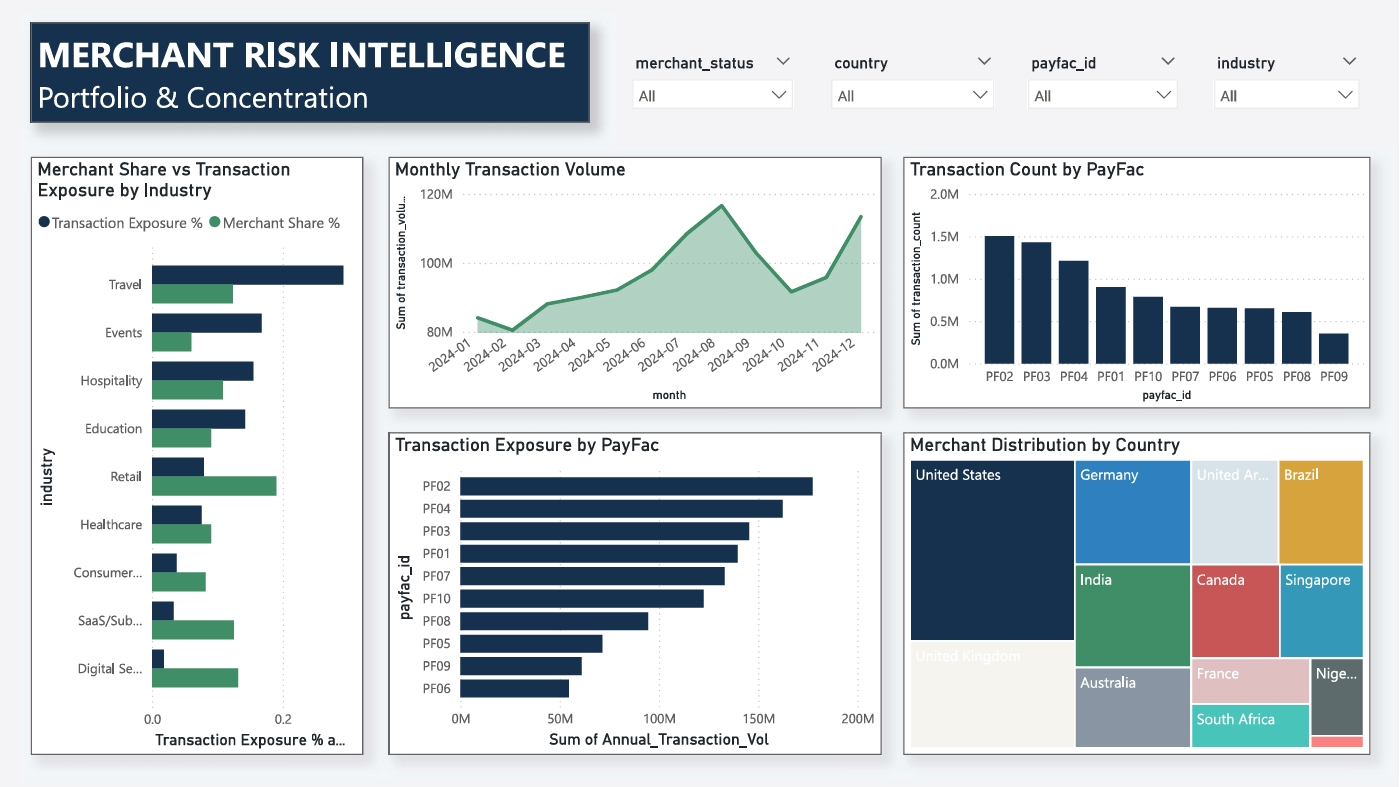

Layout of this report page (visuals, bound fields, positions):
{"tool":"powerbi","page":{"name":"Portfolio & Concentration","canvas":[1280,720],"ordinal":1},"visuals":[{"type":"barChart","title":"Transaction Exposure by PayFac","fields":{"Category":["merchant_risk_intelligence merchants.payfac_id"],"Y":["Sum(merchant_risk_intelligence Annual_monthly_transactions.Annual_Transaction_Vol)"]},"box":[355.8,396.3,451.5,294.5],"z":0},{"type":"clusteredBarChart","title":"Merchant Share vs Transaction Exposure by Industry","fields":{"Category":["merchant_risk_intelligence merchants.industry"],"Y":["merchant_risk_intelligence Annual_monthly_transactions.Transaction Exposure %","merchant_risk_intelligence Annual_monthly_transactions.Merchant Share %"]},"box":[29.4,143.6,303.1,547.2],"z":1000},{"type":"treemap","title":"Merchant Distribution by Country","fields":{"Group":["merchant_risk_intelligence merchants.country"],"Values":["CountNonNull(merchant_risk_intelligence merchants.merchant_id)"]},"box":[827,396.3,427,294.5],"z":2000},{"type":"areaChart","title":"Monthly Transaction Volume","fields":{"Category":["merchant_risk_intelligence monthly_transactions.month"],"Y":["Sum(merchant_risk_intelligence monthly_transactions.transaction_volume)"]},"box":[355.8,143.6,451.5,230.7],"z":3000},{"type":"clusteredColumnChart","title":"Transaction Count by PayFac","fields":{"Category":["merchant_risk_intelligence merchants.payfac_id"],"Y":["Sum(merchant_risk_intelligence monthly_transactions.transaction_count)"]},"box":[827,143.6,427,230.7],"z":4000},{"type":"textbox","box":[29.4,20.9,510.4,92],"z":5000},{"type":"slicer","fields":{"Values":["merchant_risk_intelligence merchants.merchant_status"]},"box":[569.3,45.4,166.9,67.5],"z":6000},{"type":"slicer","fields":{"Values":["merchant_risk_intelligence merchants.country"]},"box":[750.9,45.4,169.3,67.5],"z":7000},{"type":"slicer","fields":{"Values":["merchant_risk_intelligence merchants.payfac_id"]},"box":[931.3,45.4,157.1,67.5],"z":8000},{"type":"slicer","fields":{"Values":["merchant_risk_intelligence merchants.industry"]},"box":[1100.6,45.4,153.4,67.5],"z":9000}]}

Visuals, with their boxes in screenshot pixels (x1, y1, x2, y2), scaled from the page's 1280x720 canvas onto the 1400x787 screenshot:
"Transaction Exposure by PayFac" barChart: <bbox>389, 433, 883, 755</bbox>
"Merchant Share vs Transaction Exposure by Industry" clusteredBarChart: <bbox>32, 157, 364, 755</bbox>
"Merchant Distribution by Country" treemap: <bbox>905, 433, 1372, 755</bbox>
"Monthly Transaction Volume" areaChart: <bbox>389, 157, 883, 409</bbox>
"Transaction Count by PayFac" clusteredColumnChart: <bbox>905, 157, 1372, 409</bbox>
textbox: <bbox>32, 23, 590, 123</bbox>
slicer - merchant_risk_intelligence merchants.merchant_status: <bbox>623, 50, 805, 123</bbox>
slicer - merchant_risk_intelligence merchants.country: <bbox>821, 50, 1006, 123</bbox>
slicer - merchant_risk_intelligence merchants.payfac_id: <bbox>1019, 50, 1190, 123</bbox>
slicer - merchant_risk_intelligence merchants.industry: <bbox>1204, 50, 1372, 123</bbox>
